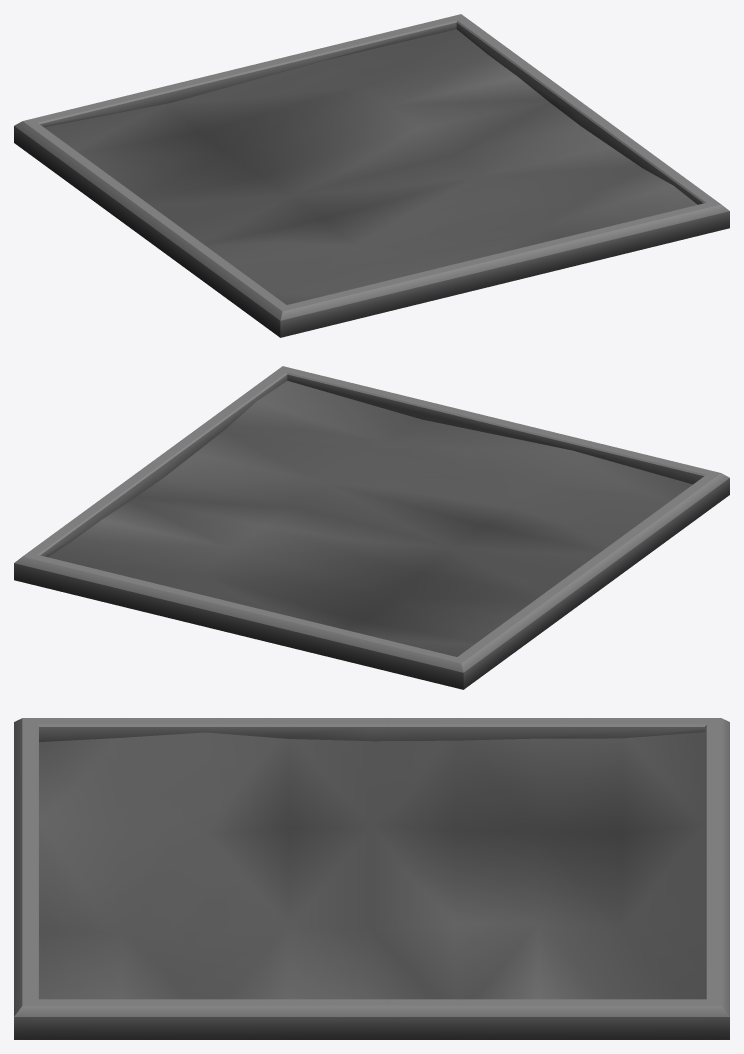
File: FarmPlotSquare1_MESH_01.fbx
3 renders of one model, top to bottom at view 1: azimuth 30°, elevation 25°; view 2: azimuth 150°, elevation 25°; view 3: azimuth 270°, elevation 25°, orthographic. The views are drawn at different scales.
Visible parts, largest first — view 1: FarmPlotSquare1_MESH_01; view 2: FarmPlotSquare1_MESH_01; view 3: FarmPlotSquare1_MESH_01.
Boxes of the visible parts, x1,y1,x2,y2 form: FarmPlotSquare1_MESH_01: (14, 14, 729, 337); FarmPlotSquare1_MESH_01: (14, 366, 729, 689); FarmPlotSquare1_MESH_01: (14, 718, 729, 1039).
Bounding box in the file's own units: 1193 × 57.78 × 1224.
